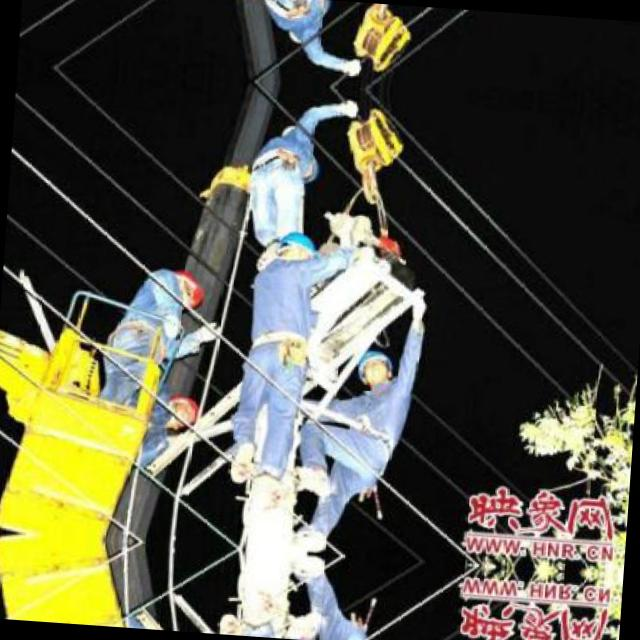helmet: (269, 224, 319, 267), (167, 264, 206, 311), (160, 387, 204, 428), (353, 346, 395, 386)
